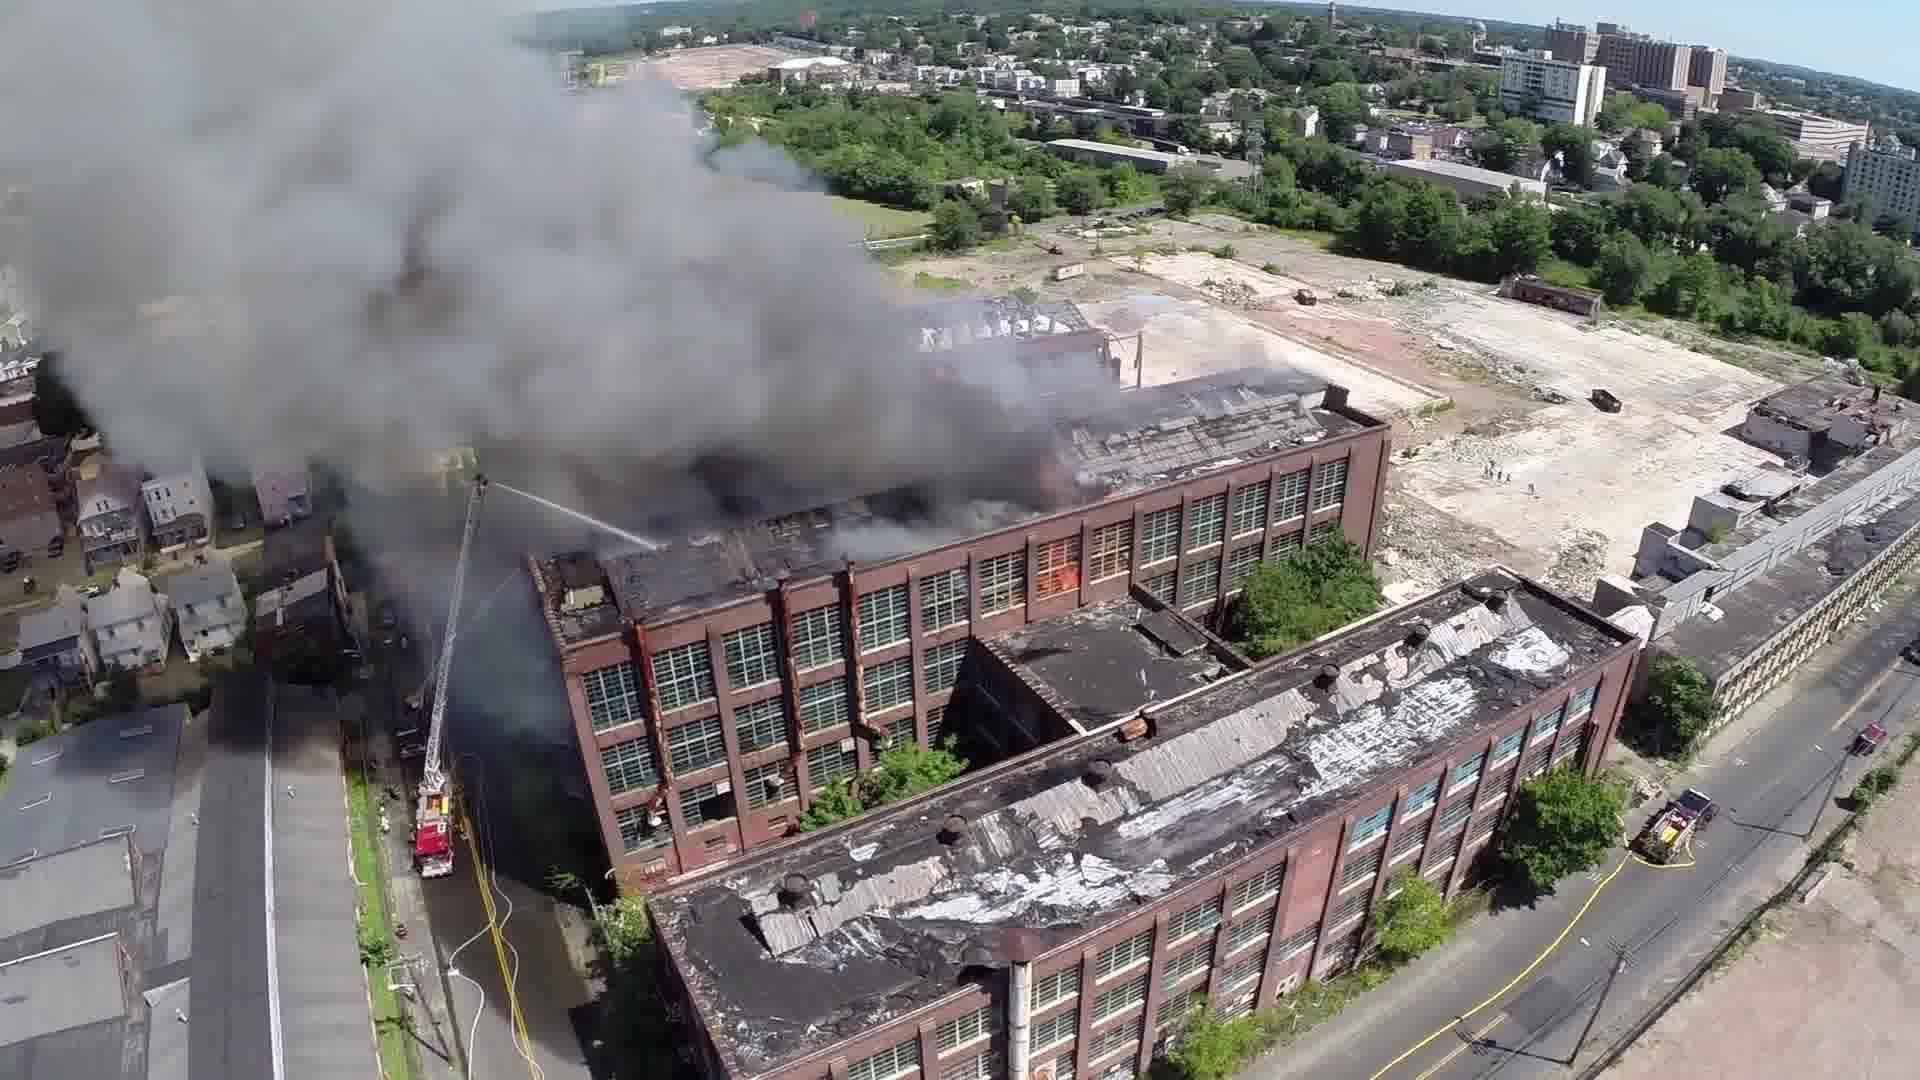smoke: (92, 33, 917, 500)
